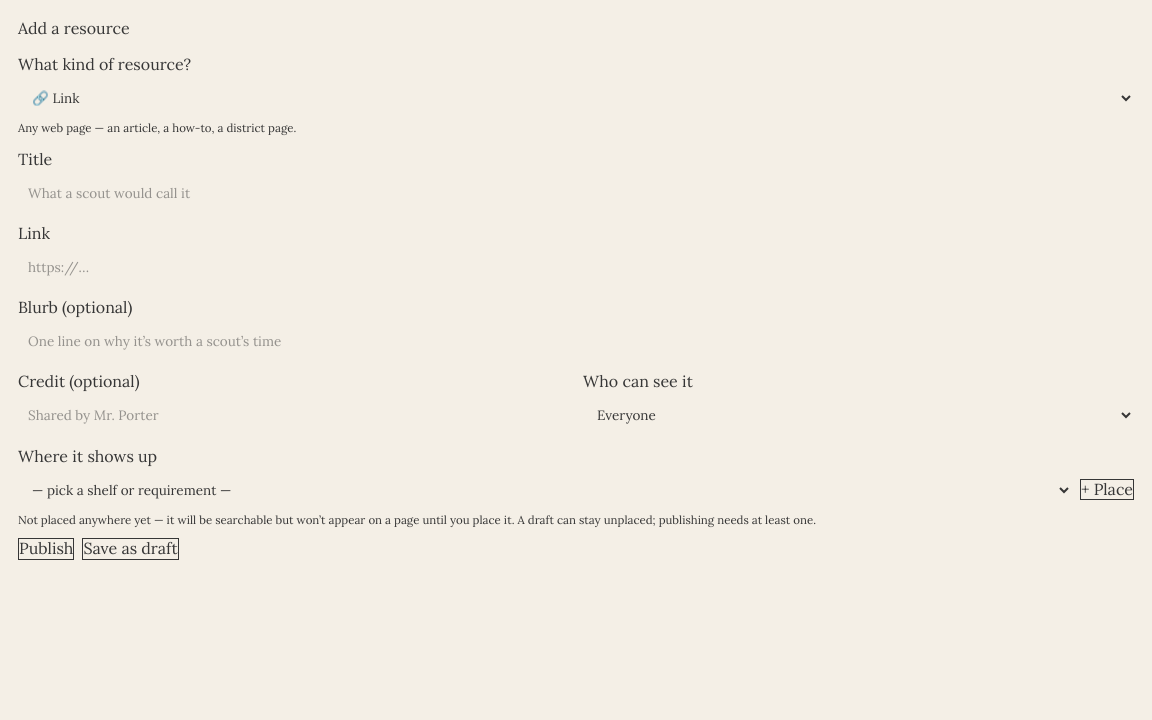
Test: Add a resource — publishing needs a placement › names the real mistake when a shelf is chosen but never added
The width and height of the screenshot is (1152, 720).
Step 1. Select "Camping" in the dropdown named "where it shows up" → (545, 490), box x1=18 y1=472 x2=1072 y2=508
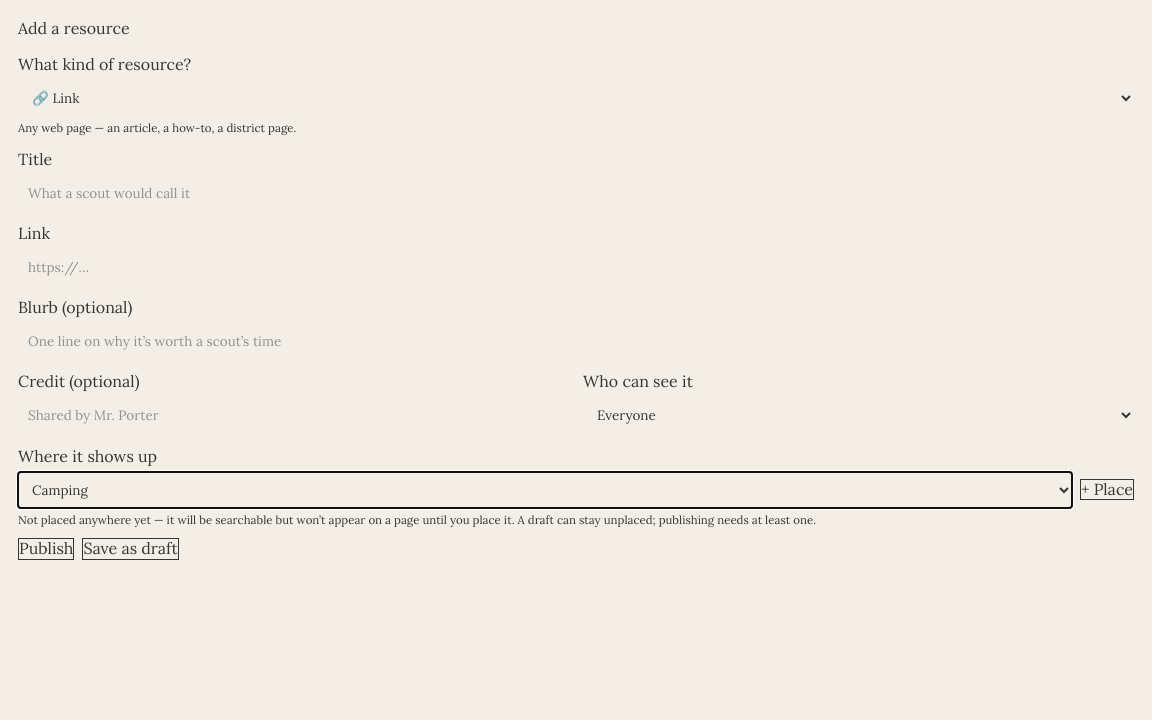
Step 2. Click the button "Publish" → click(46, 549), box x1=18 y1=538 x2=74 y2=560
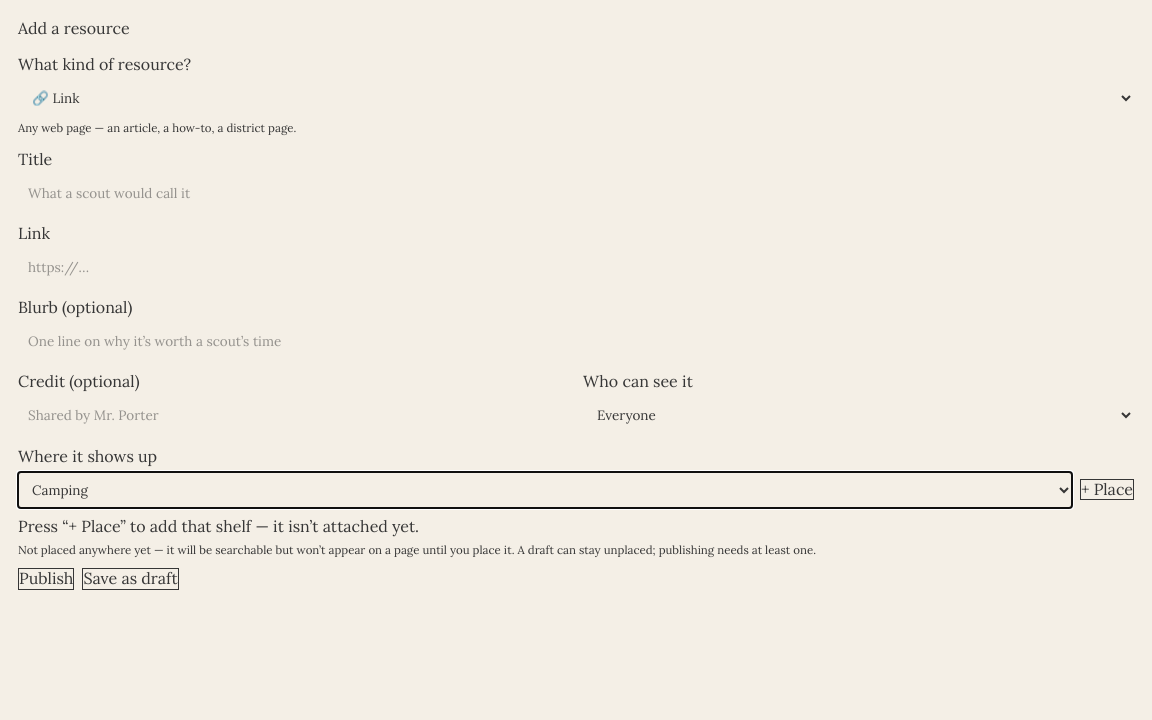
Expected: the message shows "+ Place", x1=18 y1=516 x2=419 y2=536
